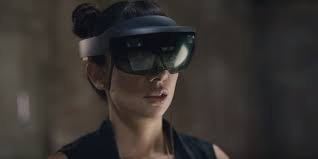hololens: (78, 22, 195, 80)
